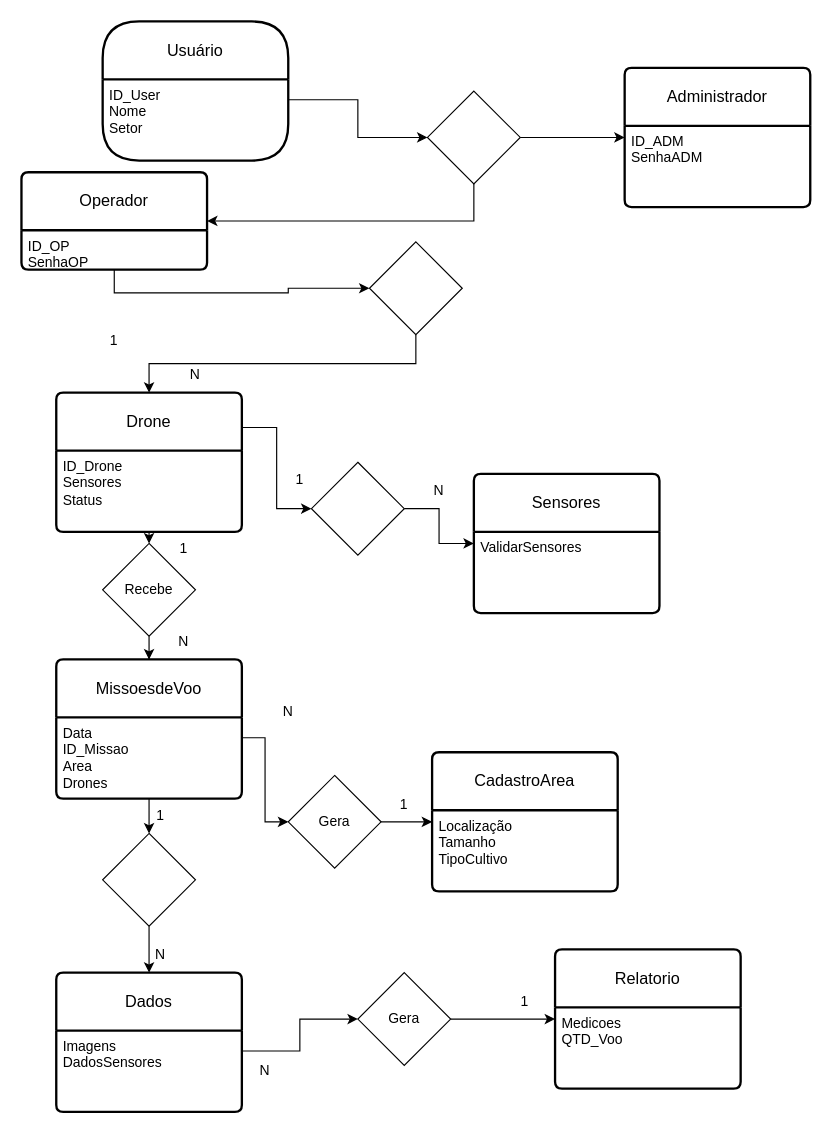
This 831x1132 diagram has some shape labels left out. Each missing label, with the centre of its shape:
"Coleta" goes at pixel 148 879.
"Controla" goes at pixel 415 288.
"Loga como" goes at pixel 473 137.
"Possui" goes at pixel 357 508.
